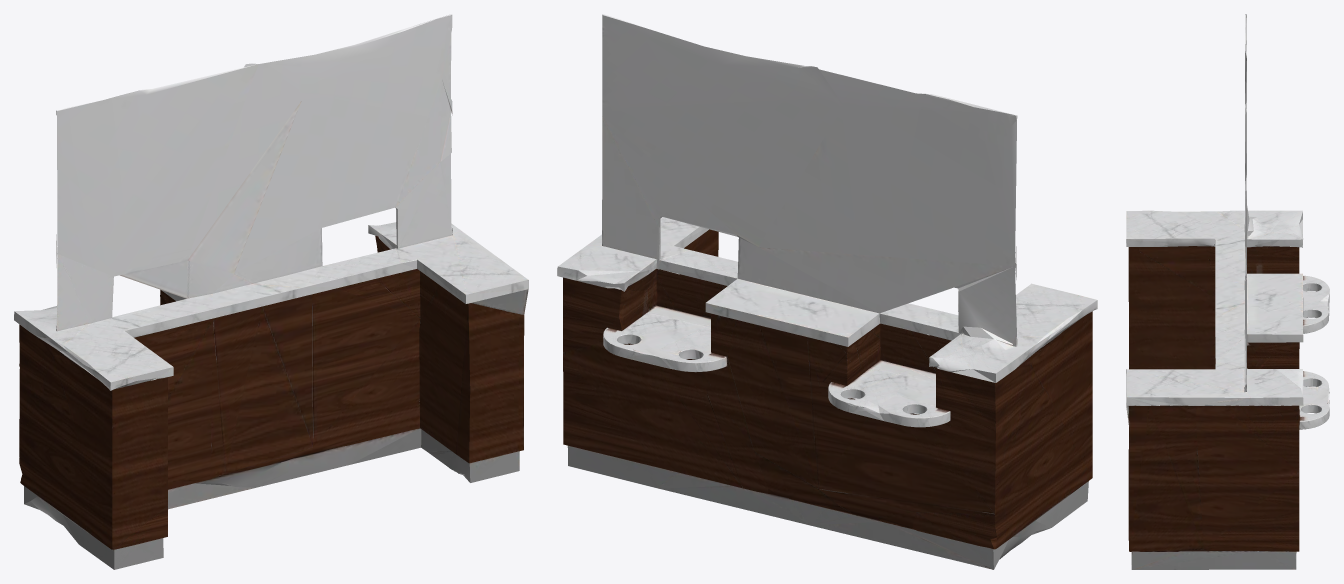
Rendered from bank_teller_counter.glb.
The picture shows the model from 3 angles, left to right: view 1: azimuth 30°, elevation 25°; view 2: azimuth 150°, elevation 25°; view 3: azimuth 270°, elevation 25°; orthographic projection. The views are drawn at different scales.
Visible parts, largest first — view 1: Mesh_0; view 2: Mesh_0; view 3: Mesh_0.
Part boxes in pixels (left/top/right/bottom): Mesh_0: left=14, top=14, right=528, bottom=569; Mesh_0: left=557, top=14, right=1097, bottom=569; Mesh_0: left=1126, top=14, right=1329, bottom=569.
Size of the model in its own units: 3 by 2.83 by 1.38.
Materials: 1 (1 with a texture image).
